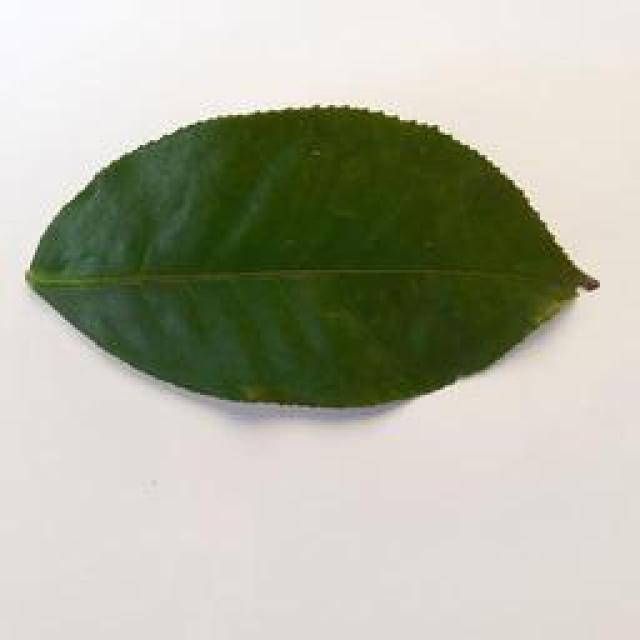Healthy: (26, 107, 602, 408)
